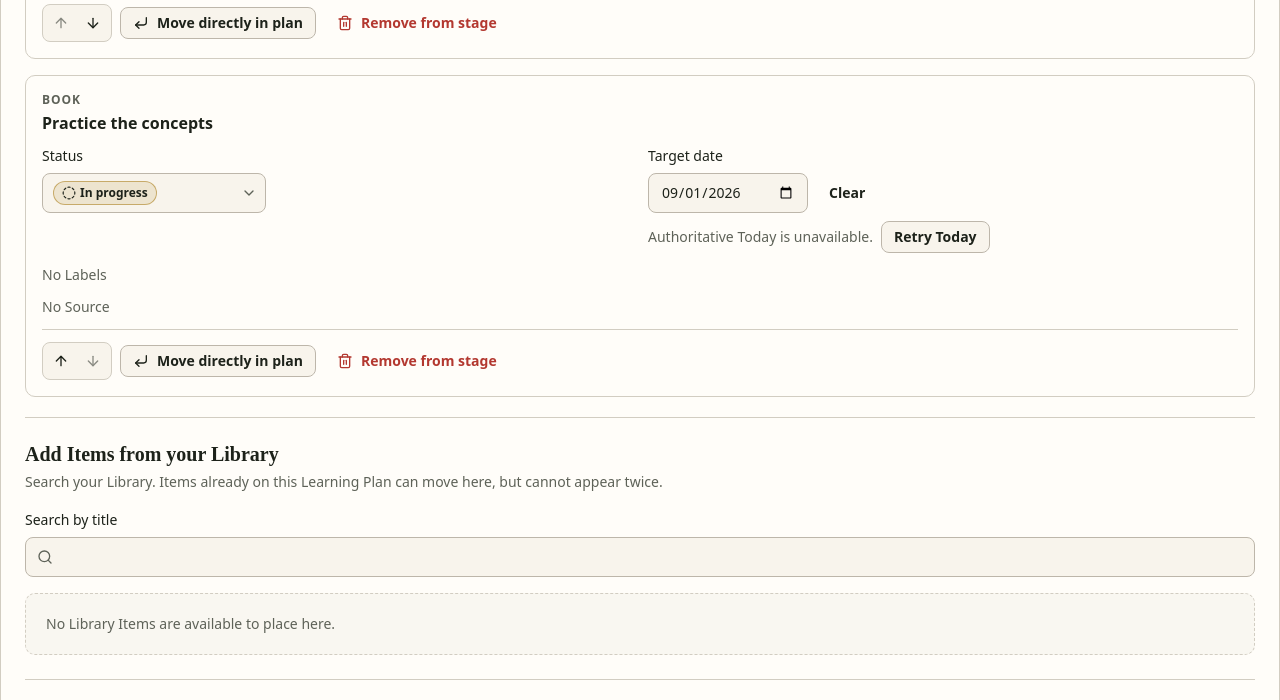
Stage detail panel › contains an ordering failure without changing the visible local order
(page scrolled)
Click the button named "Move Practice the concepts up".
click(61, 361)  # box 45,345 -> 77,377
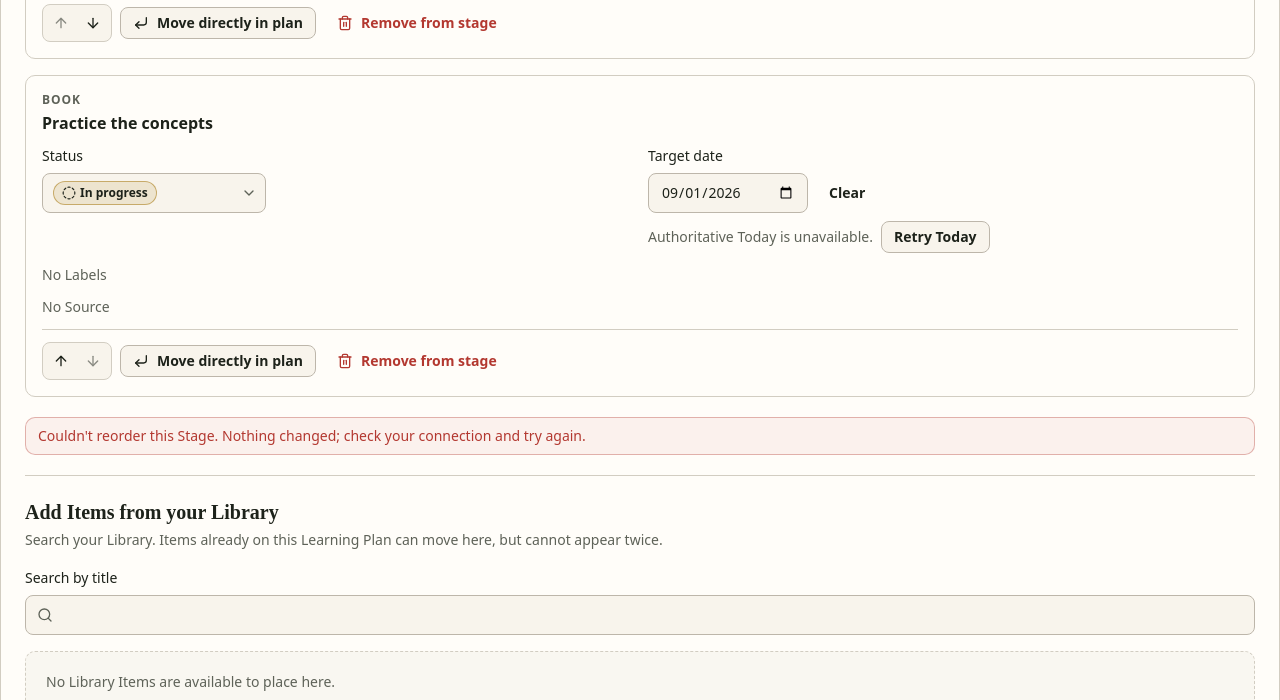
Expected: the 2nd list item shows "Practice the concepts", 42,112 -> 213,134
Result: the message shows "Couldn't reorder this Stage. Nothing changed; check your connection and try again." at 38,426 -> 586,445
